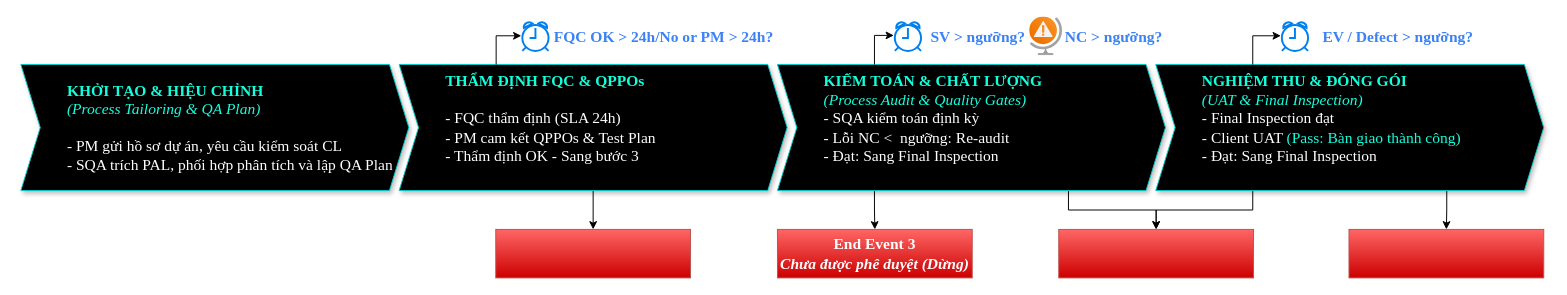
Image size: 1567x295. Some labels were removed from this diagram. The shapes that lost their labels are listed below. From the top down, each one's centre as x and y in pixels, then its label:
point 593,253: End Event 2 > 24h / Hủy / Hoãn (Dừng)
point 1156,253: End Event 4 Dừng khẩn cấp (BOD)
point 1446,253: End Event 4 Bàn giao thành công
